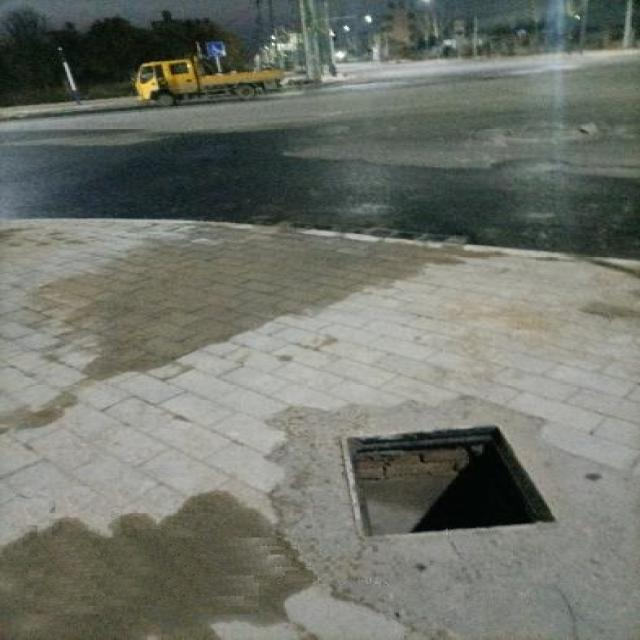Faulty: (337, 418, 565, 543)
Good: (476, 114, 608, 164)
